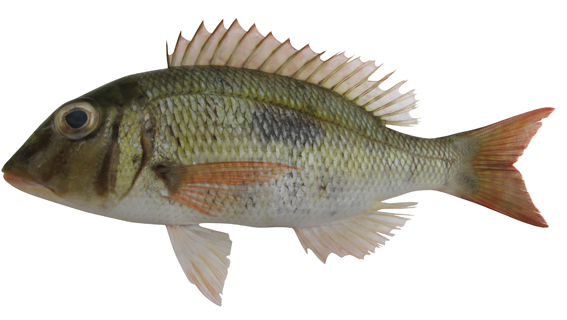fish: (2, 17, 556, 308)
